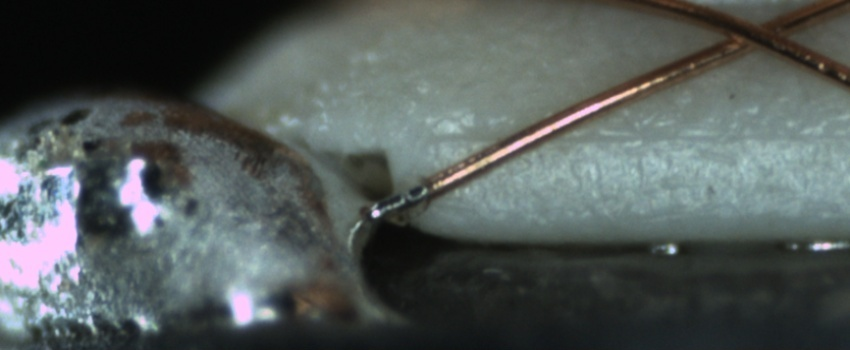CL: (701, 5, 816, 60)
DL: (426, 103, 849, 167)
TS: (373, 183, 431, 223)
